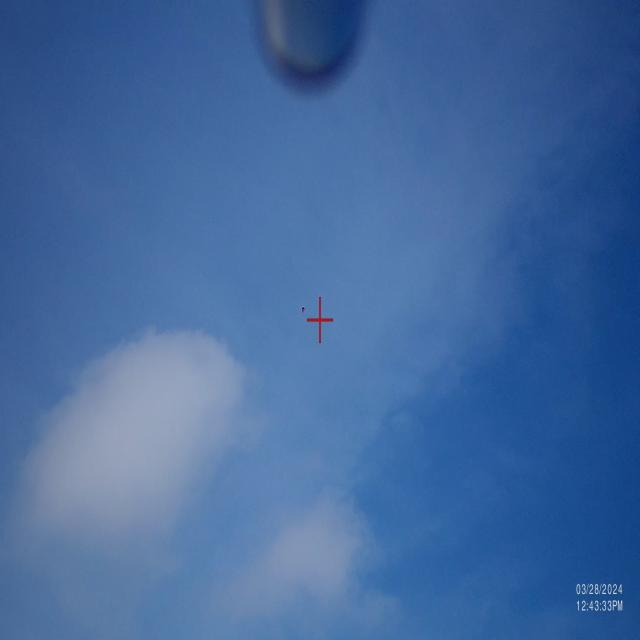entire: (296, 297, 312, 321)
